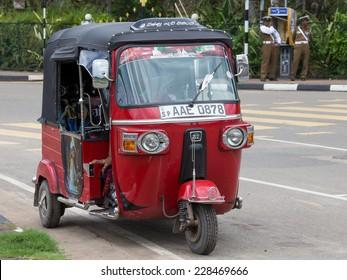threewheel: (30, 16, 255, 256)
